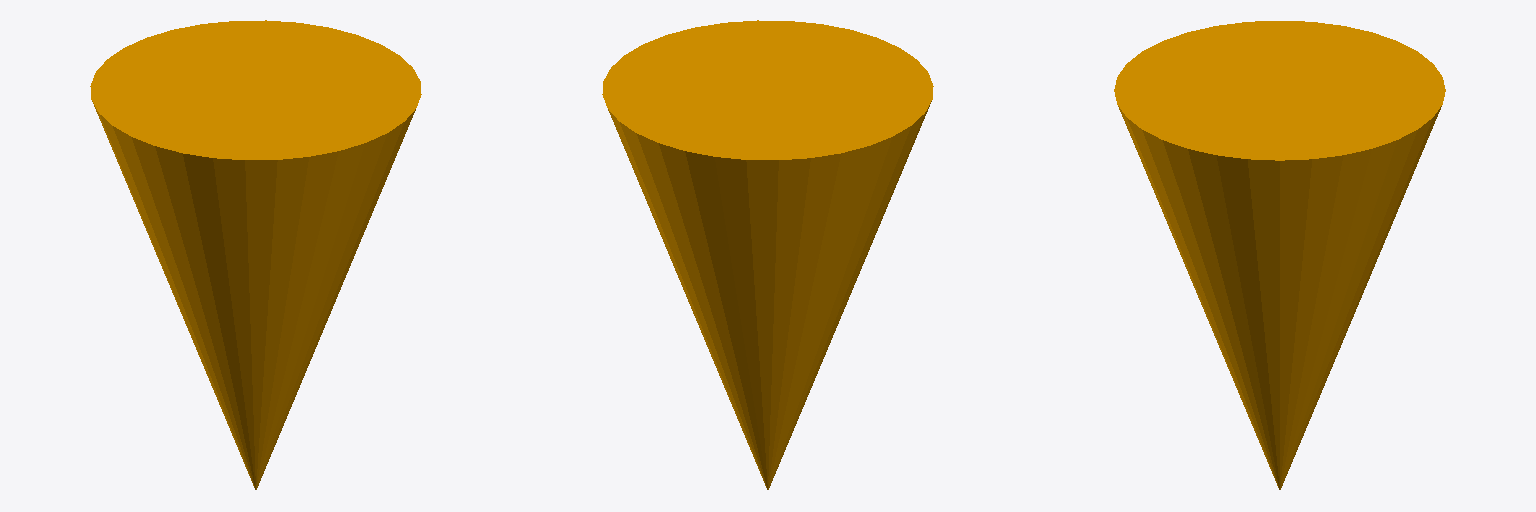
robot.urdf — object:
<?xml version="1.0"?>
<robot name="object">
  <link name="object">
    <visual>
      <origin xyz="0 0 0"/>
      <geometry>
        <mesh filename="cune.obj" scale="2 2 2"/>
      </geometry>
    </visual>
    <collision>
      <origin xyz="0 0 0"/>
      <geometry>
        <mesh filename="cune.obj" scale="2 2 2"/>
      </geometry>
    </collision>

  </link>
</robot>

--- Render facts (derived) ---
The picture shows the robot from 3 angles, left to right: view 1: azimuth 30°, elevation 25°; view 2: azimuth 150°, elevation 25°; view 3: azimuth 270°, elevation 25°; orthographic projection.
Model object with 1 links and 0 joints (none), rooted at object, posed every joint at zero.
Visible links, largest first — view 1: object; view 2: object; view 3: object.
Link boxes in pixels (<box>): object: <box>90,20,421,489</box>; object: <box>602,20,933,489</box>; object: <box>1114,21,1445,489</box>.
Bounding box of the posed robot: 3 × 3 × 4 m (x, y, z).
1 mesh visuals loaded from 1 distinct referenced files (1 OBJ).
